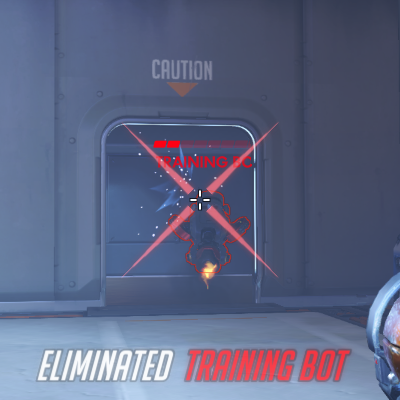hpbar: (153, 140, 254, 148)
